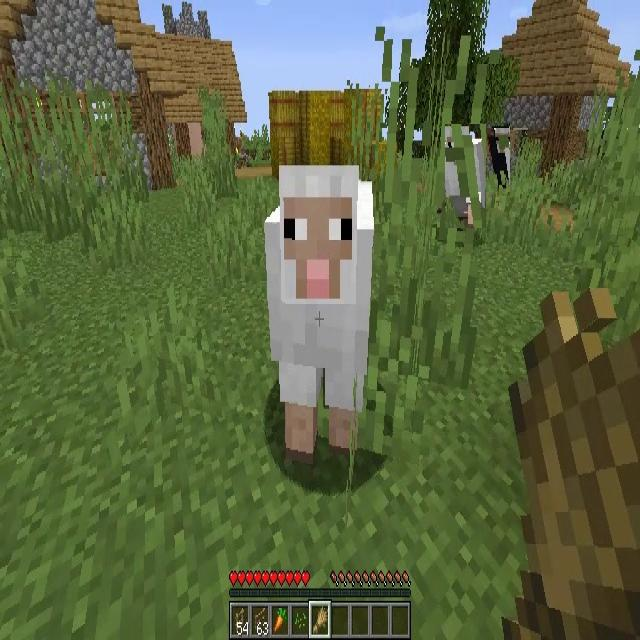sheep: (266, 167, 372, 454), (445, 124, 486, 228), (486, 123, 510, 192)
